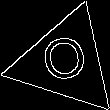O_S: (38, 32, 93, 91)
